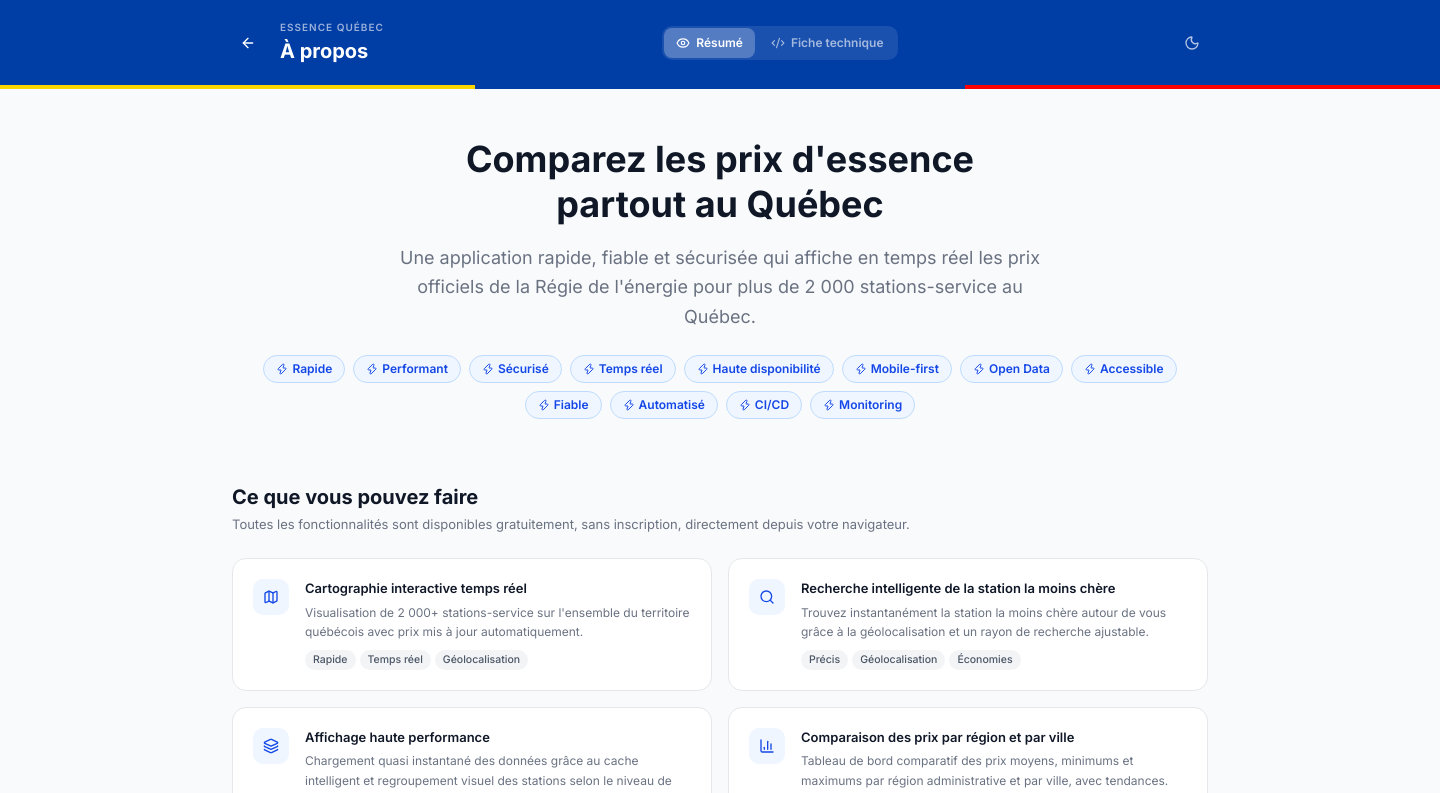
Test case: TechPage › affiche les mesures de sécurité en mode détaillé
Click the button "Fiche technique": (827, 42) [759,28,896,58]
(page scrolled)
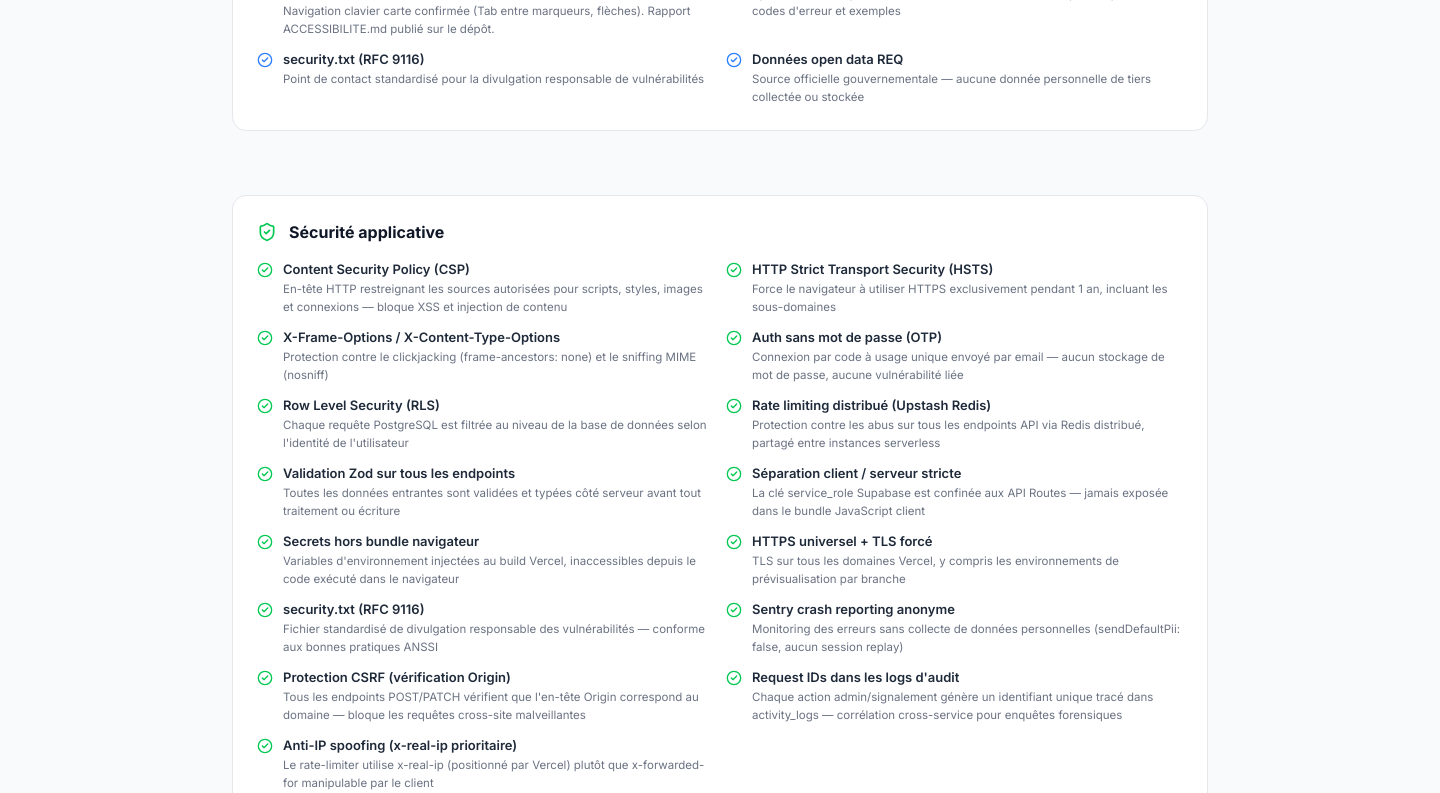
Check: the text "Content Security Policy (CSP)" is shown, box [283,261,470,277]
Check: the text "Auth sans mot de passe (OTP)" is shown, box [752,329,942,345]
Check: the text "Rate limiting distribué (Upstash Redis)" is shown, box [752,397,991,413]
